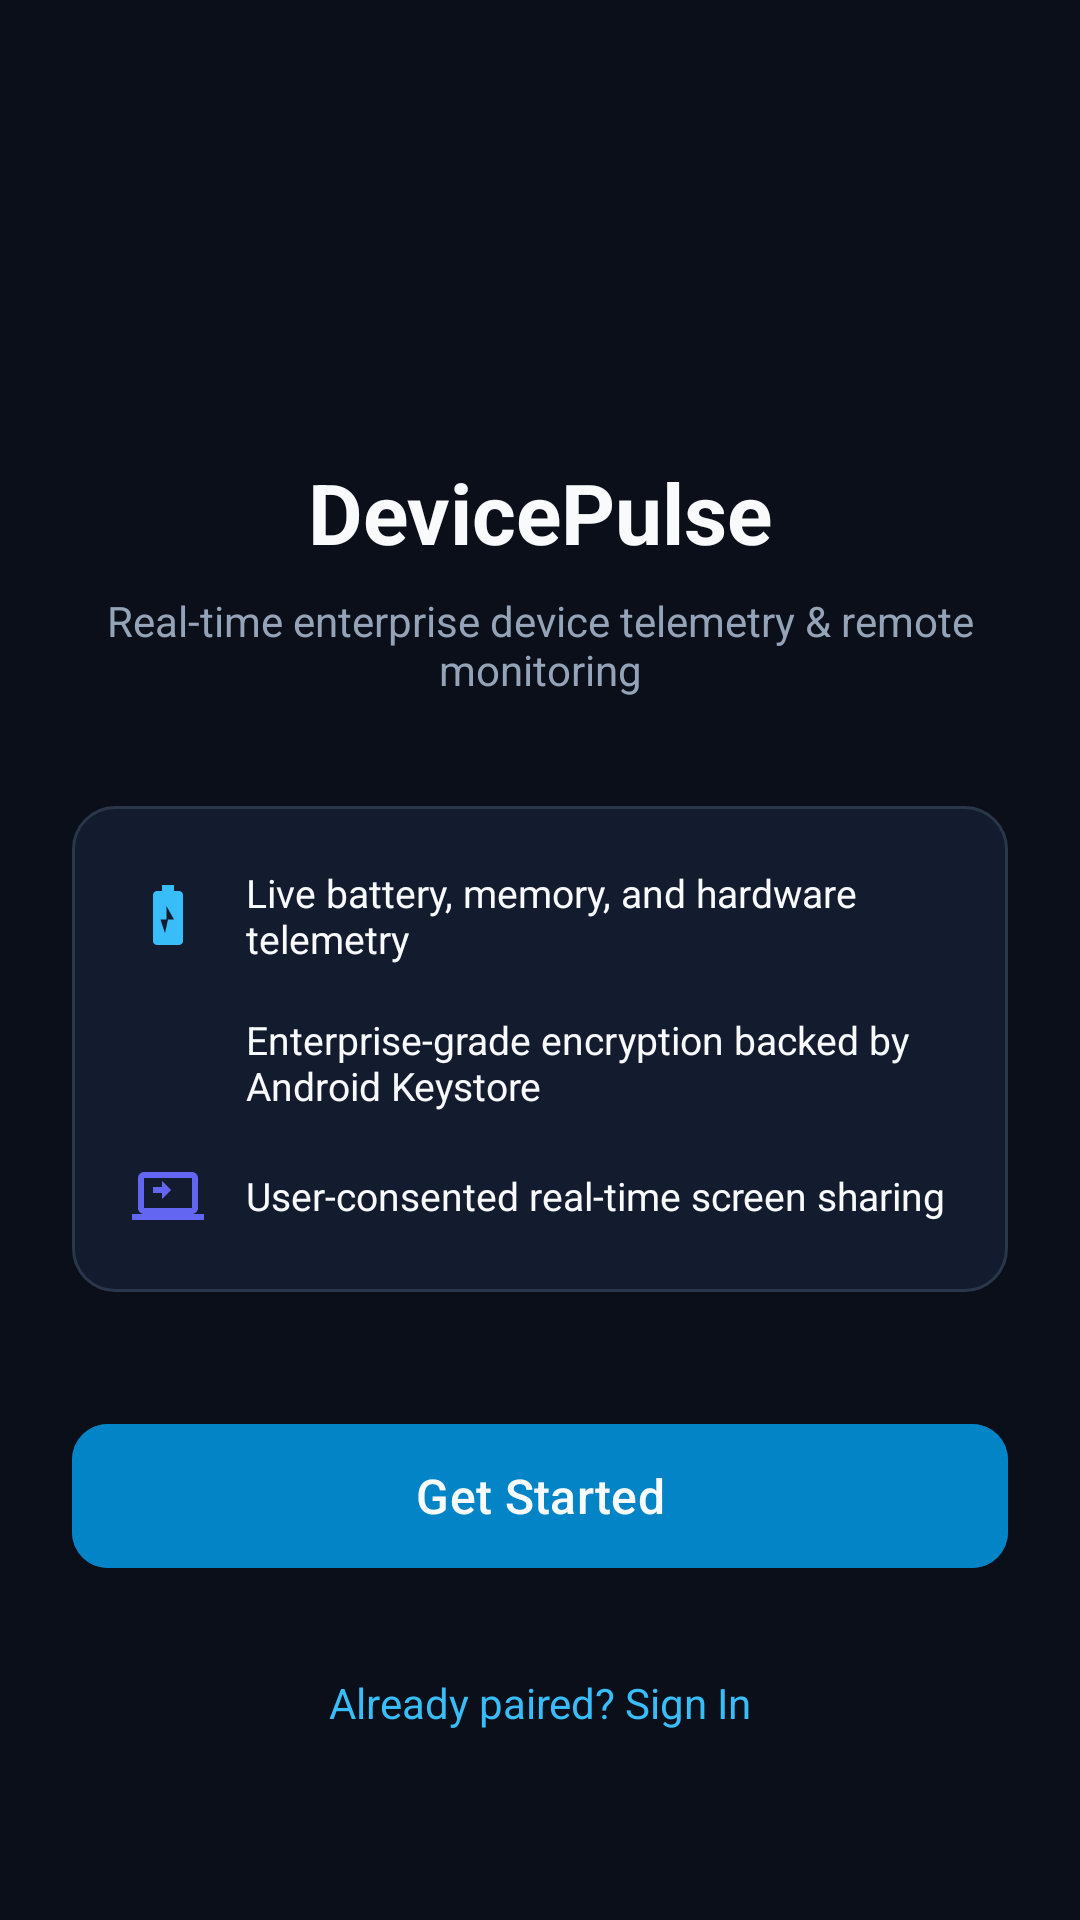

Icons on this 1080*1920 Android screen, each with its box as (x1, y1, x2, y2):
screen share: (132, 1172, 204, 1220)
